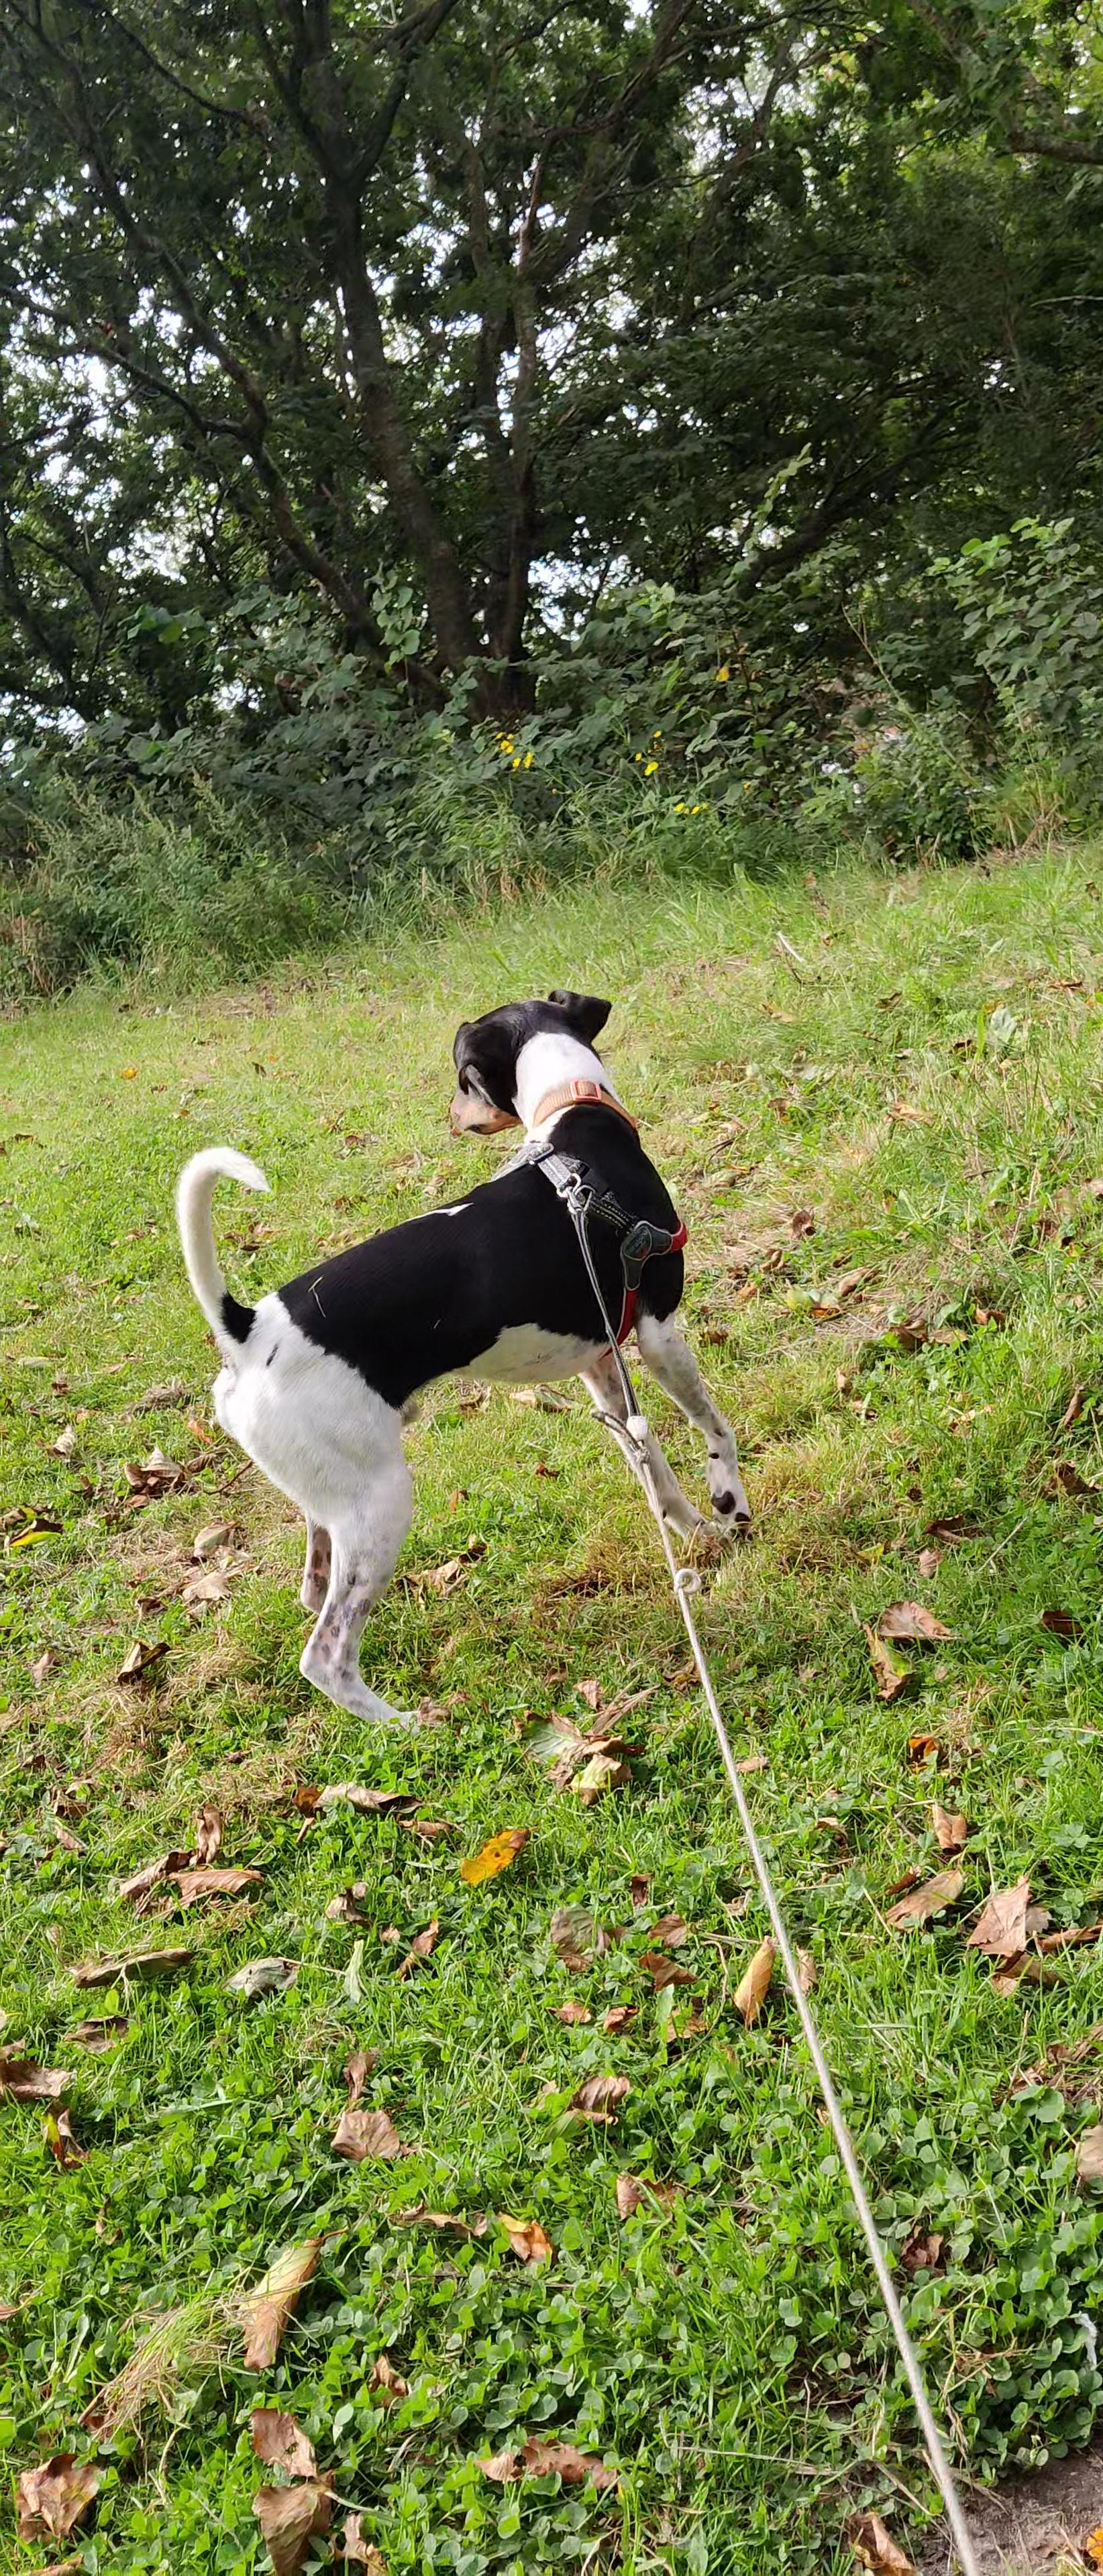Dog: (132, 945, 832, 1756)
